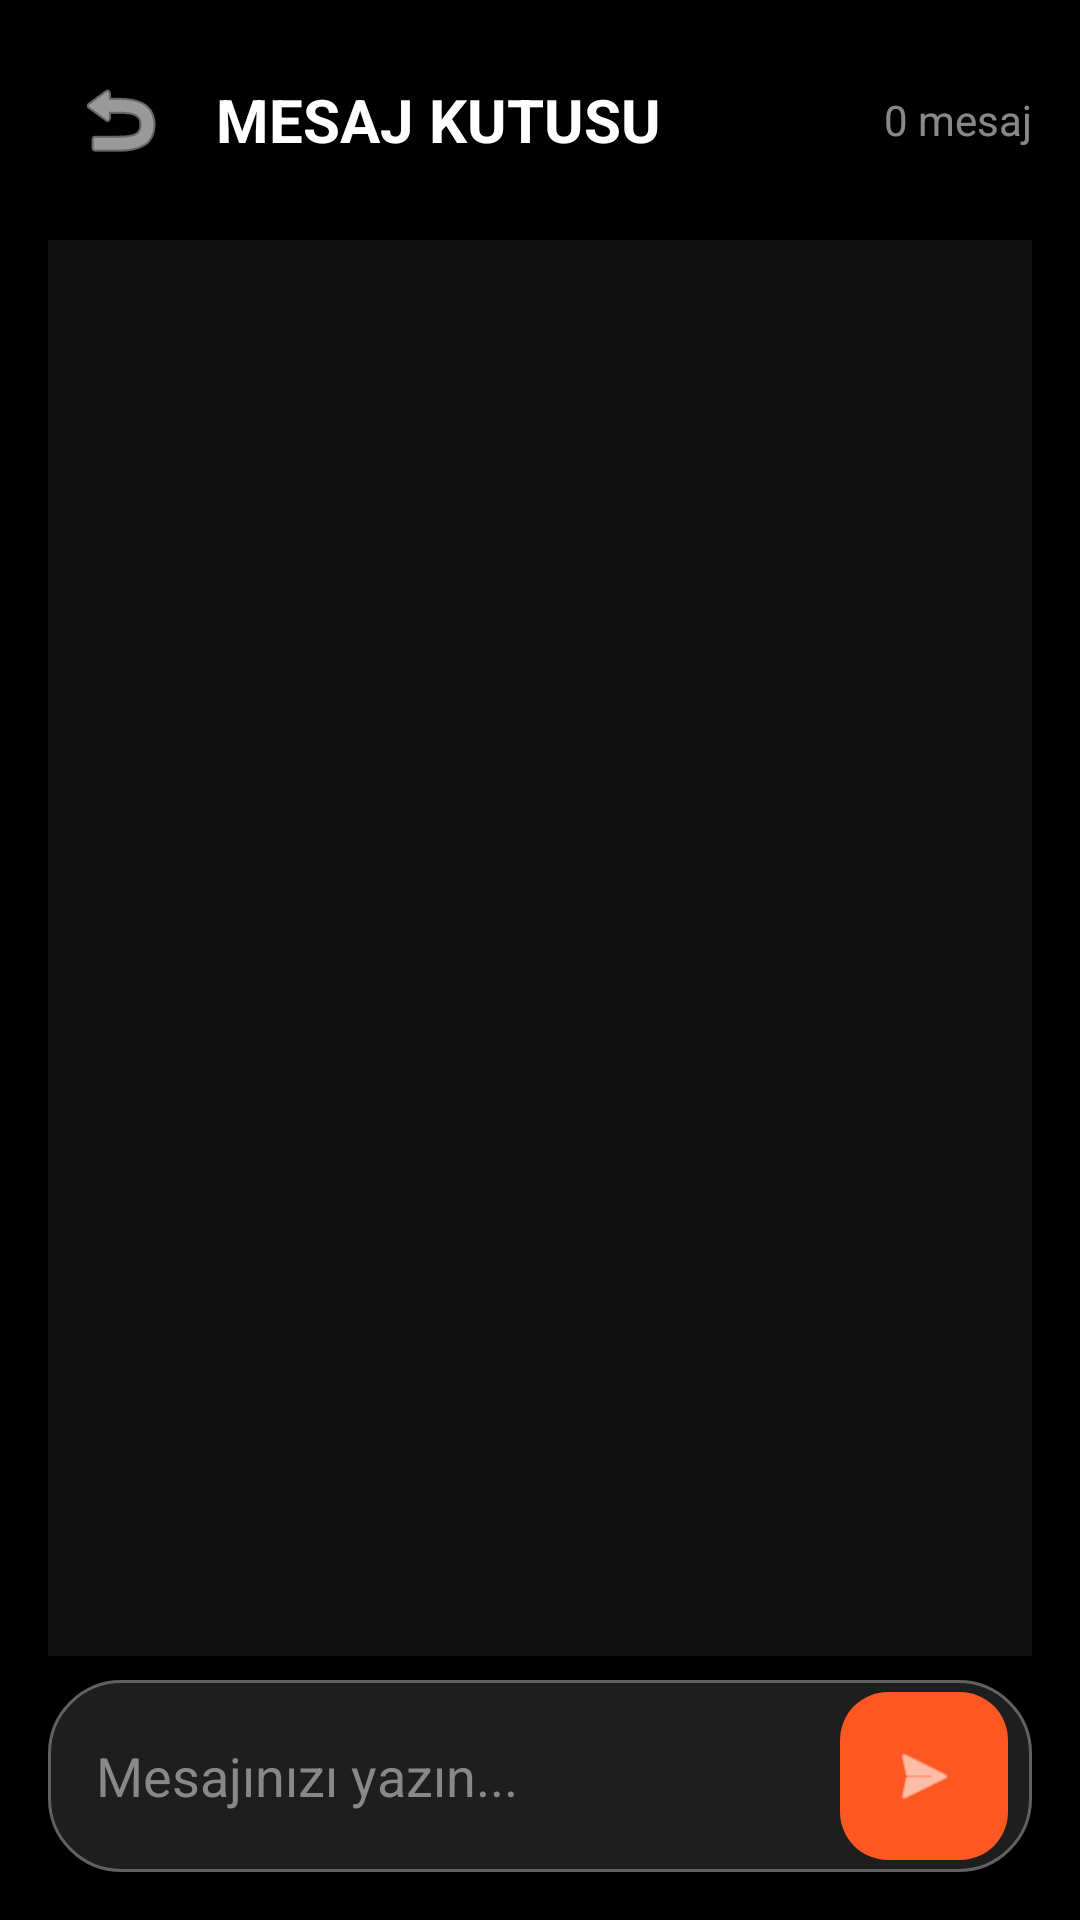

Icons on this 1080 x 1920 Android screen, each with the point to tap as [x,y]:
revert: [121,120]
send: [924,1776]
